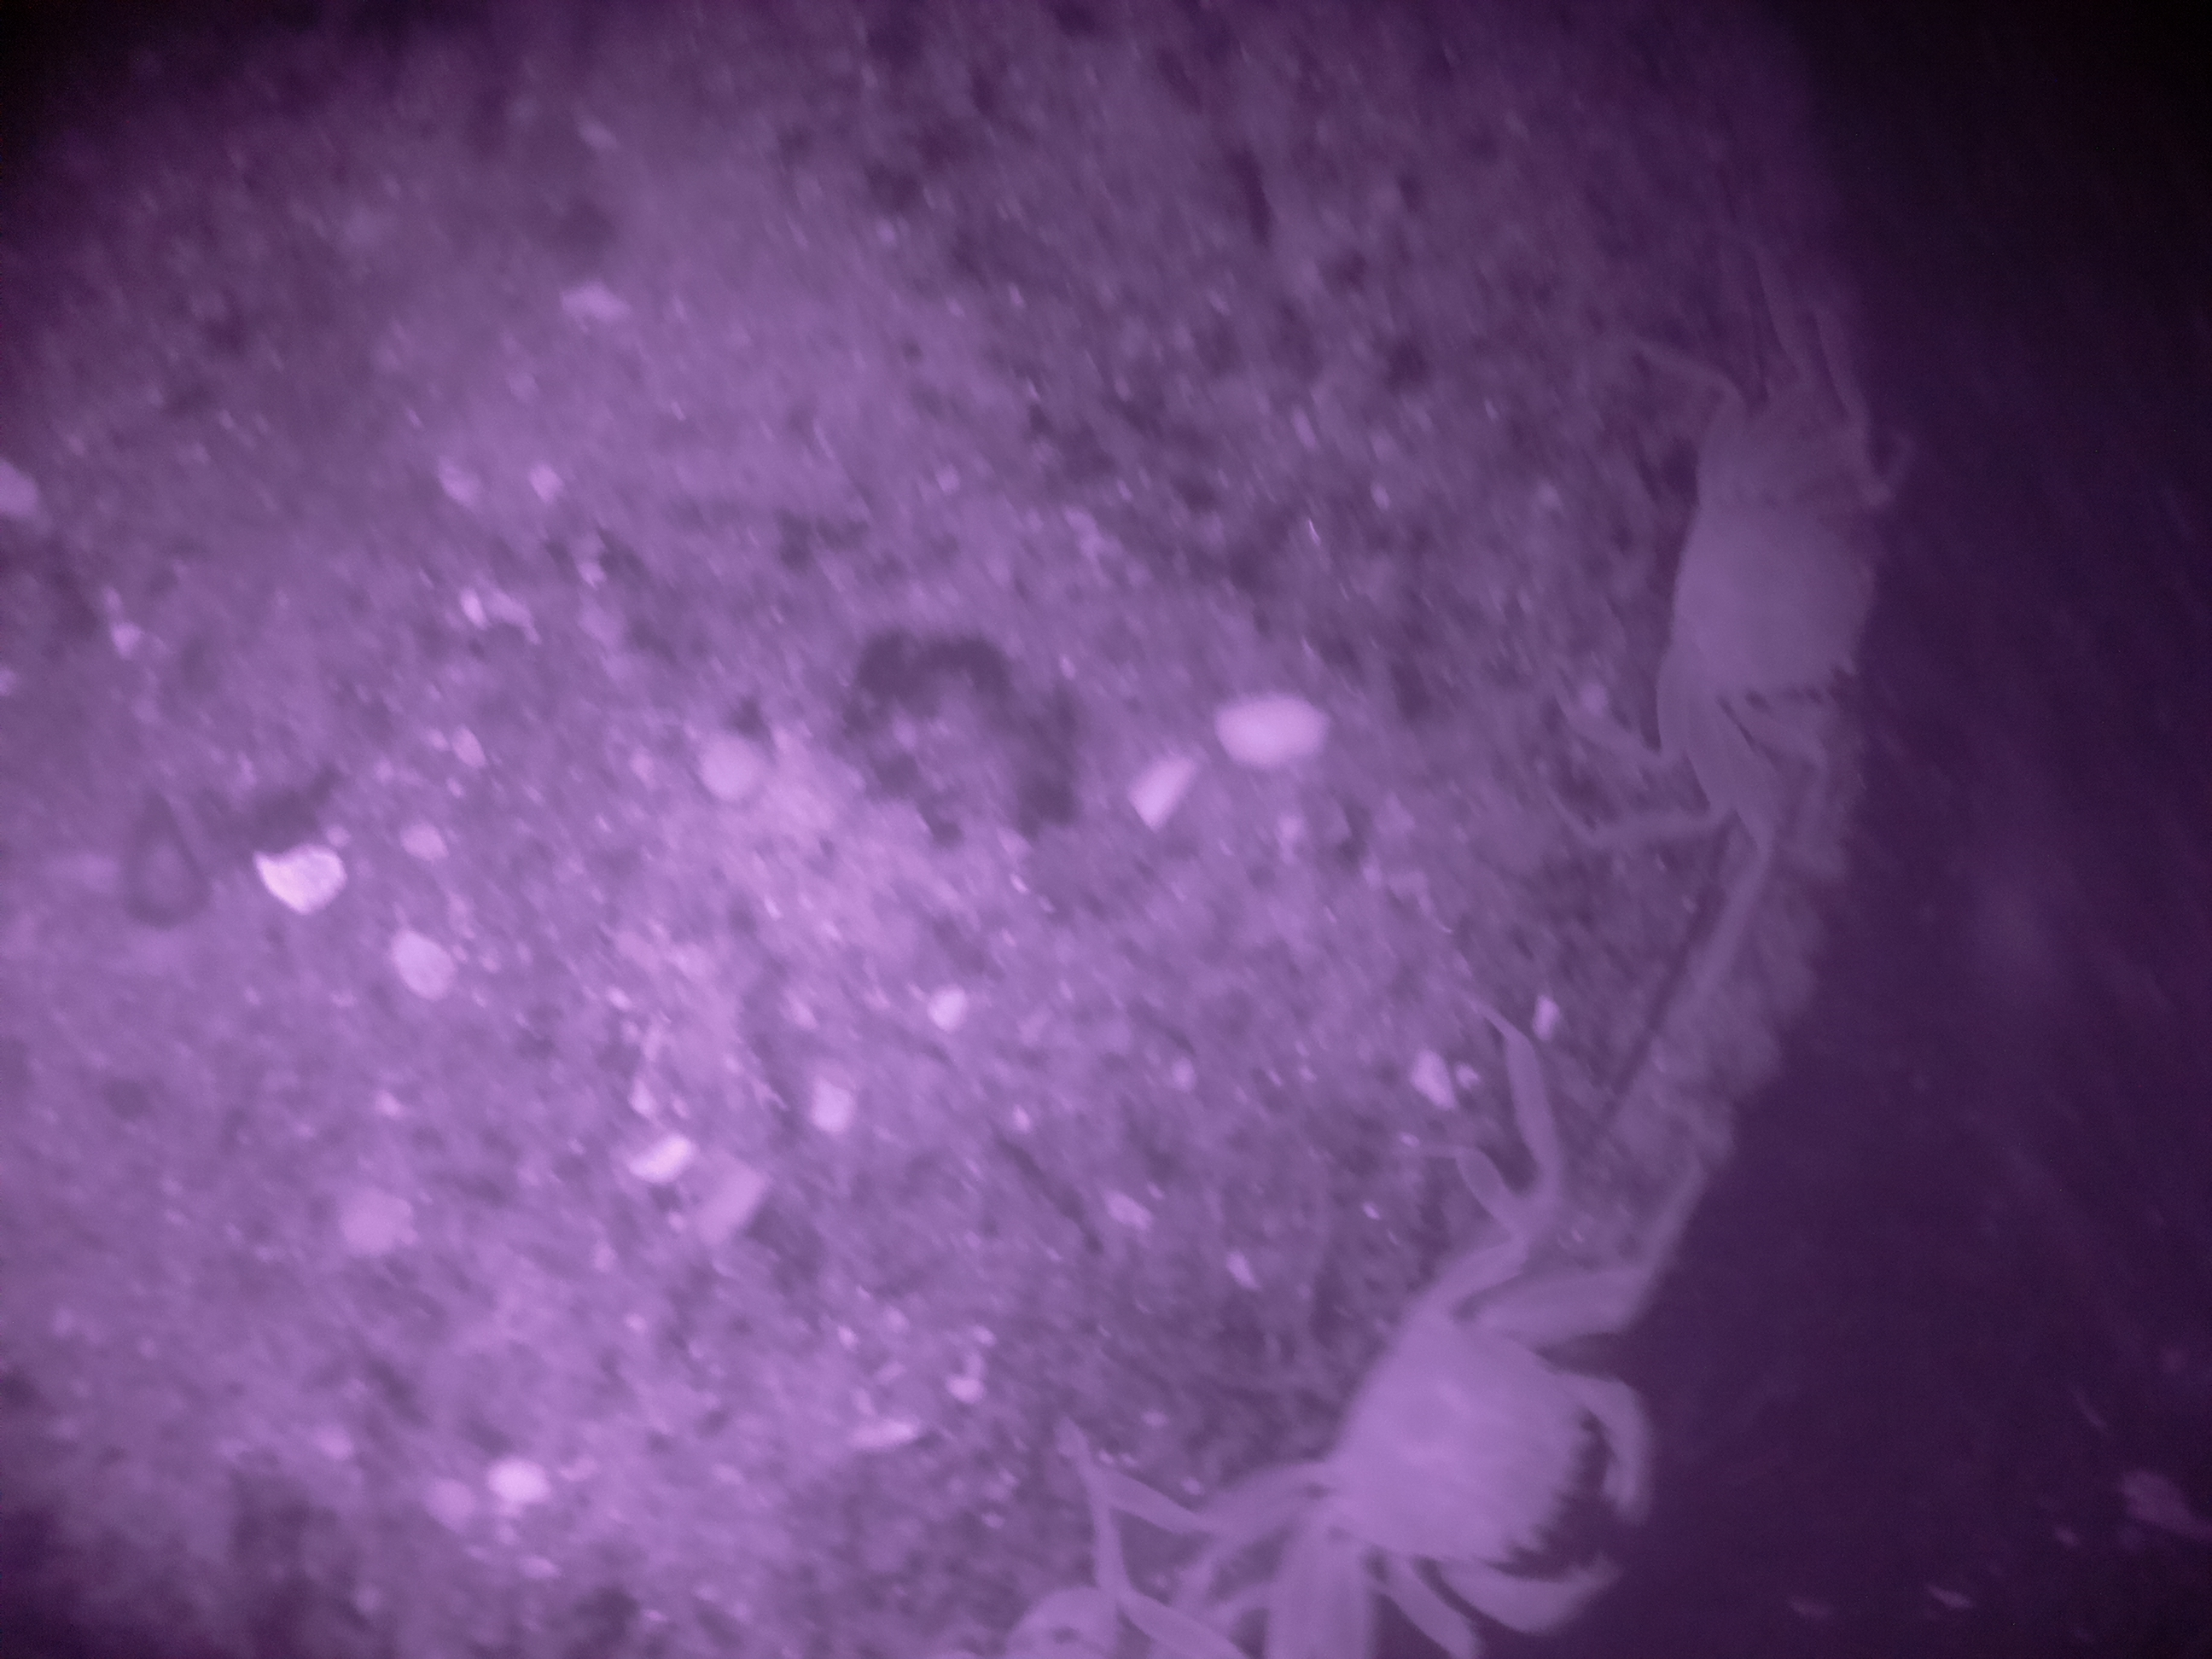Crab: (1585, 293, 1980, 899), (1217, 1178, 1700, 1652)
